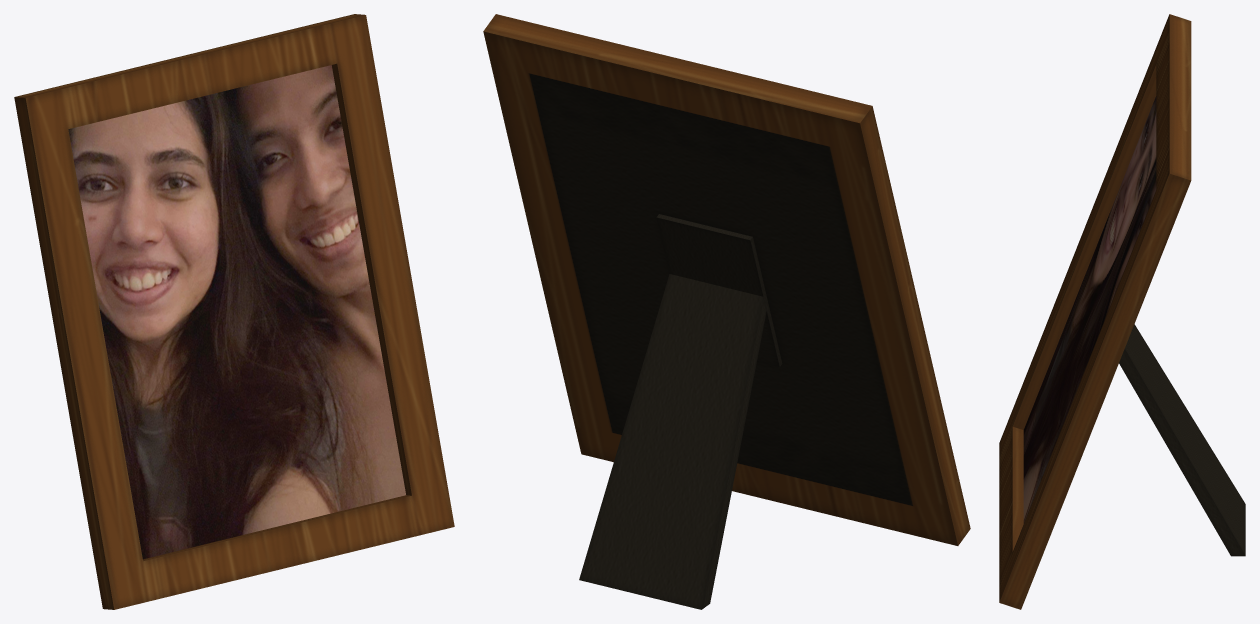
The picture shows the model from 3 angles, left to right: view 1: azimuth 30°, elevation 25°; view 2: azimuth 150°, elevation 25°; view 3: azimuth 270°, elevation 25°; orthographic projection. The views are drawn at different scales.
Parts seen in each view (by area): view 1: PhotoFrame; view 2: PhotoFrame; view 3: PhotoFrame.
Boxes of the visible parts, x1=… form: PhotoFrame: x1=14, y1=14, x2=454, y2=609; PhotoFrame: x1=483, y1=14, x2=970, y2=609; PhotoFrame: x1=999, y1=14, x2=1245, y2=609.
Size of the model in its own units: 0.1496 by 0.1908 by 0.0977.
Materials: 1 (1 with a texture image).
